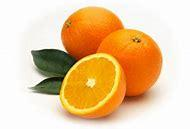orange: (56, 52, 128, 118), (108, 30, 171, 97), (63, 8, 127, 57)
